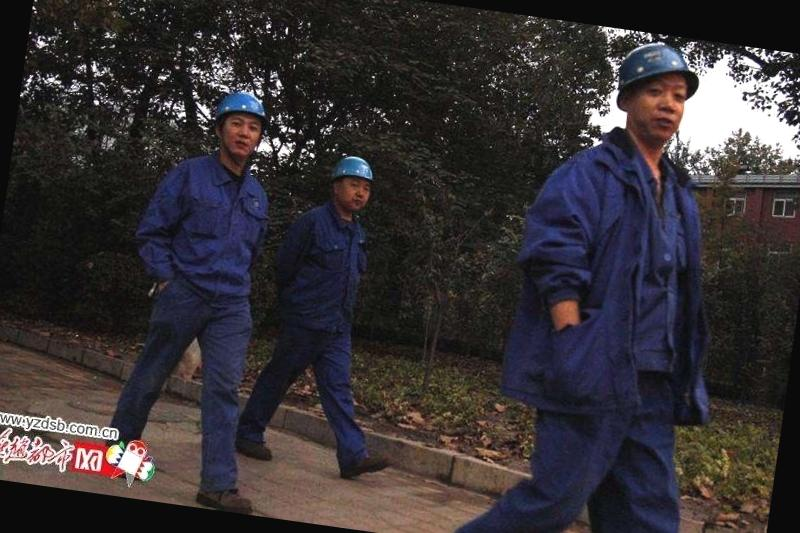helmet: (610, 34, 710, 92), (211, 91, 274, 124), (326, 149, 376, 186)
no_vest: (527, 123, 726, 351), (158, 156, 274, 282), (290, 208, 366, 320)
person: (446, 17, 756, 533), (92, 61, 324, 516), (227, 140, 440, 487)
